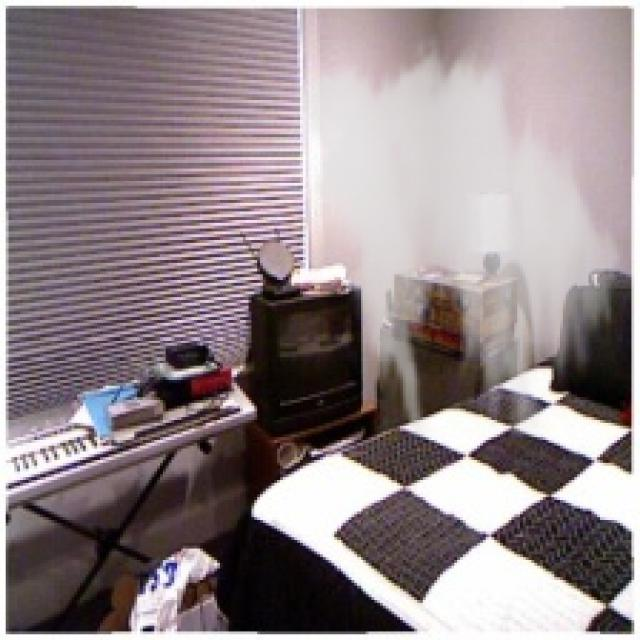smoke: (288, 34, 632, 437)
